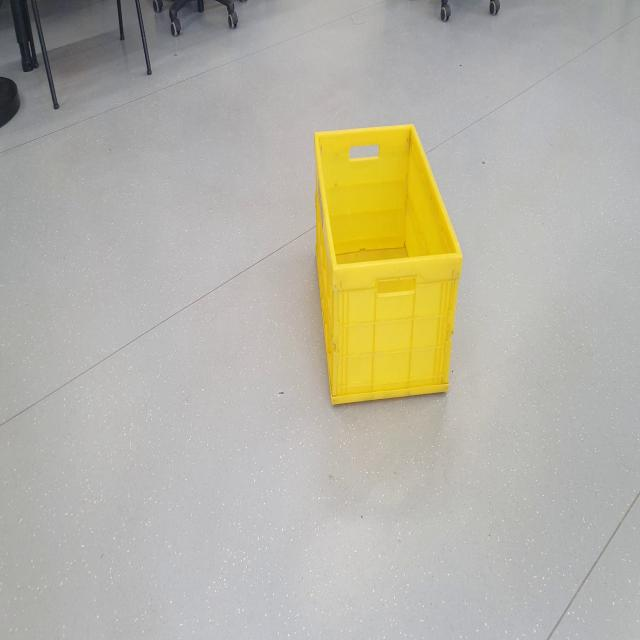box: (311, 116, 468, 422)
